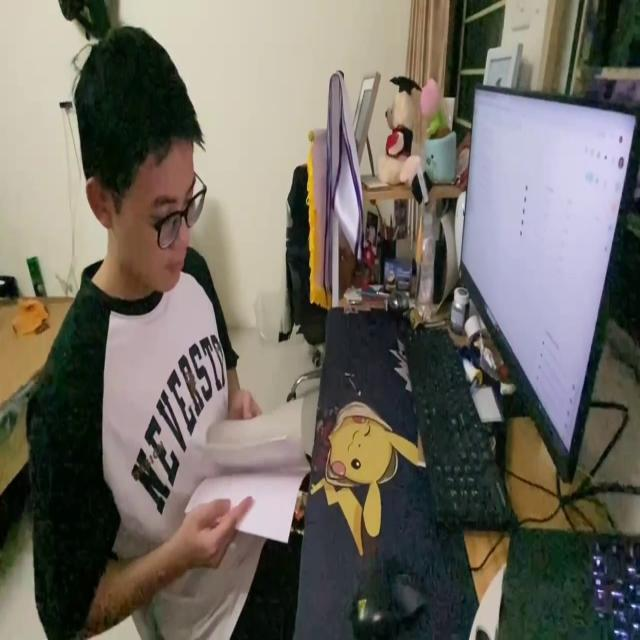book: (178, 394, 308, 550)
laptop: (457, 75, 640, 484)
student: (18, 19, 303, 640)
